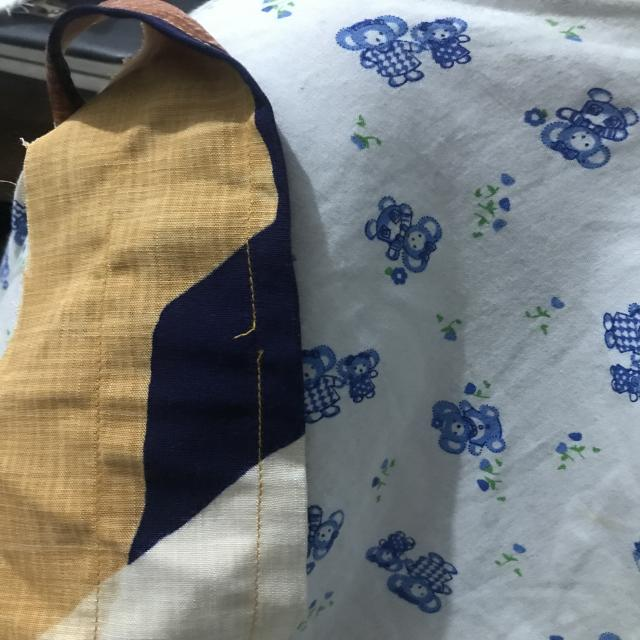broken: (231, 312, 293, 376)
good: (246, 384, 266, 448)
